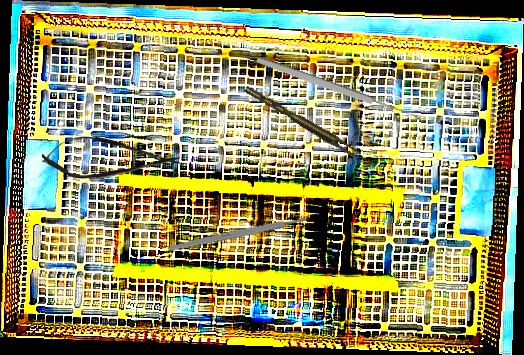Micro Scissor: (41, 133, 181, 183)
Scalpel Handle: (167, 215, 309, 253)
Surgical Spoon: (255, 54, 423, 124)
Tissue Forceps: (244, 80, 361, 163)
